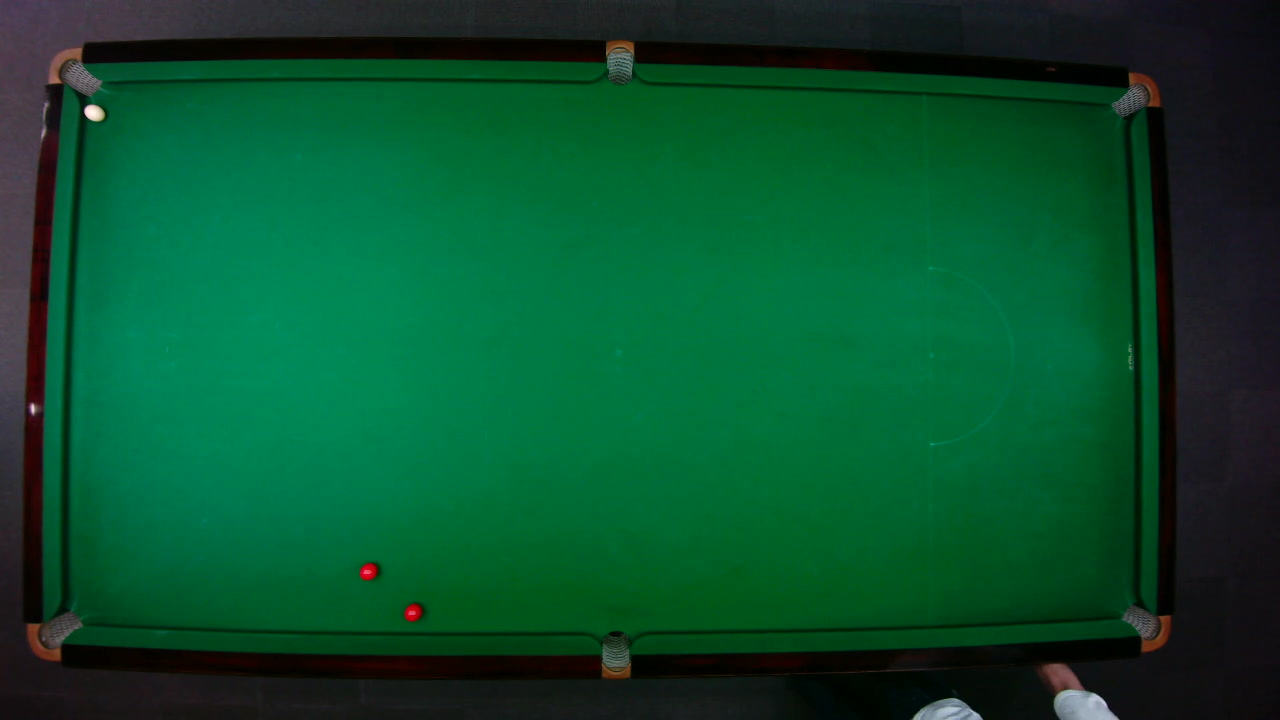bag: (24, 609, 84, 661), (45, 46, 102, 96), (1119, 603, 1171, 651), (1108, 71, 1161, 118), (600, 629, 630, 680), (605, 38, 633, 85)
red: (357, 560, 379, 581), (403, 602, 423, 622)
white: (82, 102, 106, 122)
zone: (927, 266, 1013, 444)
